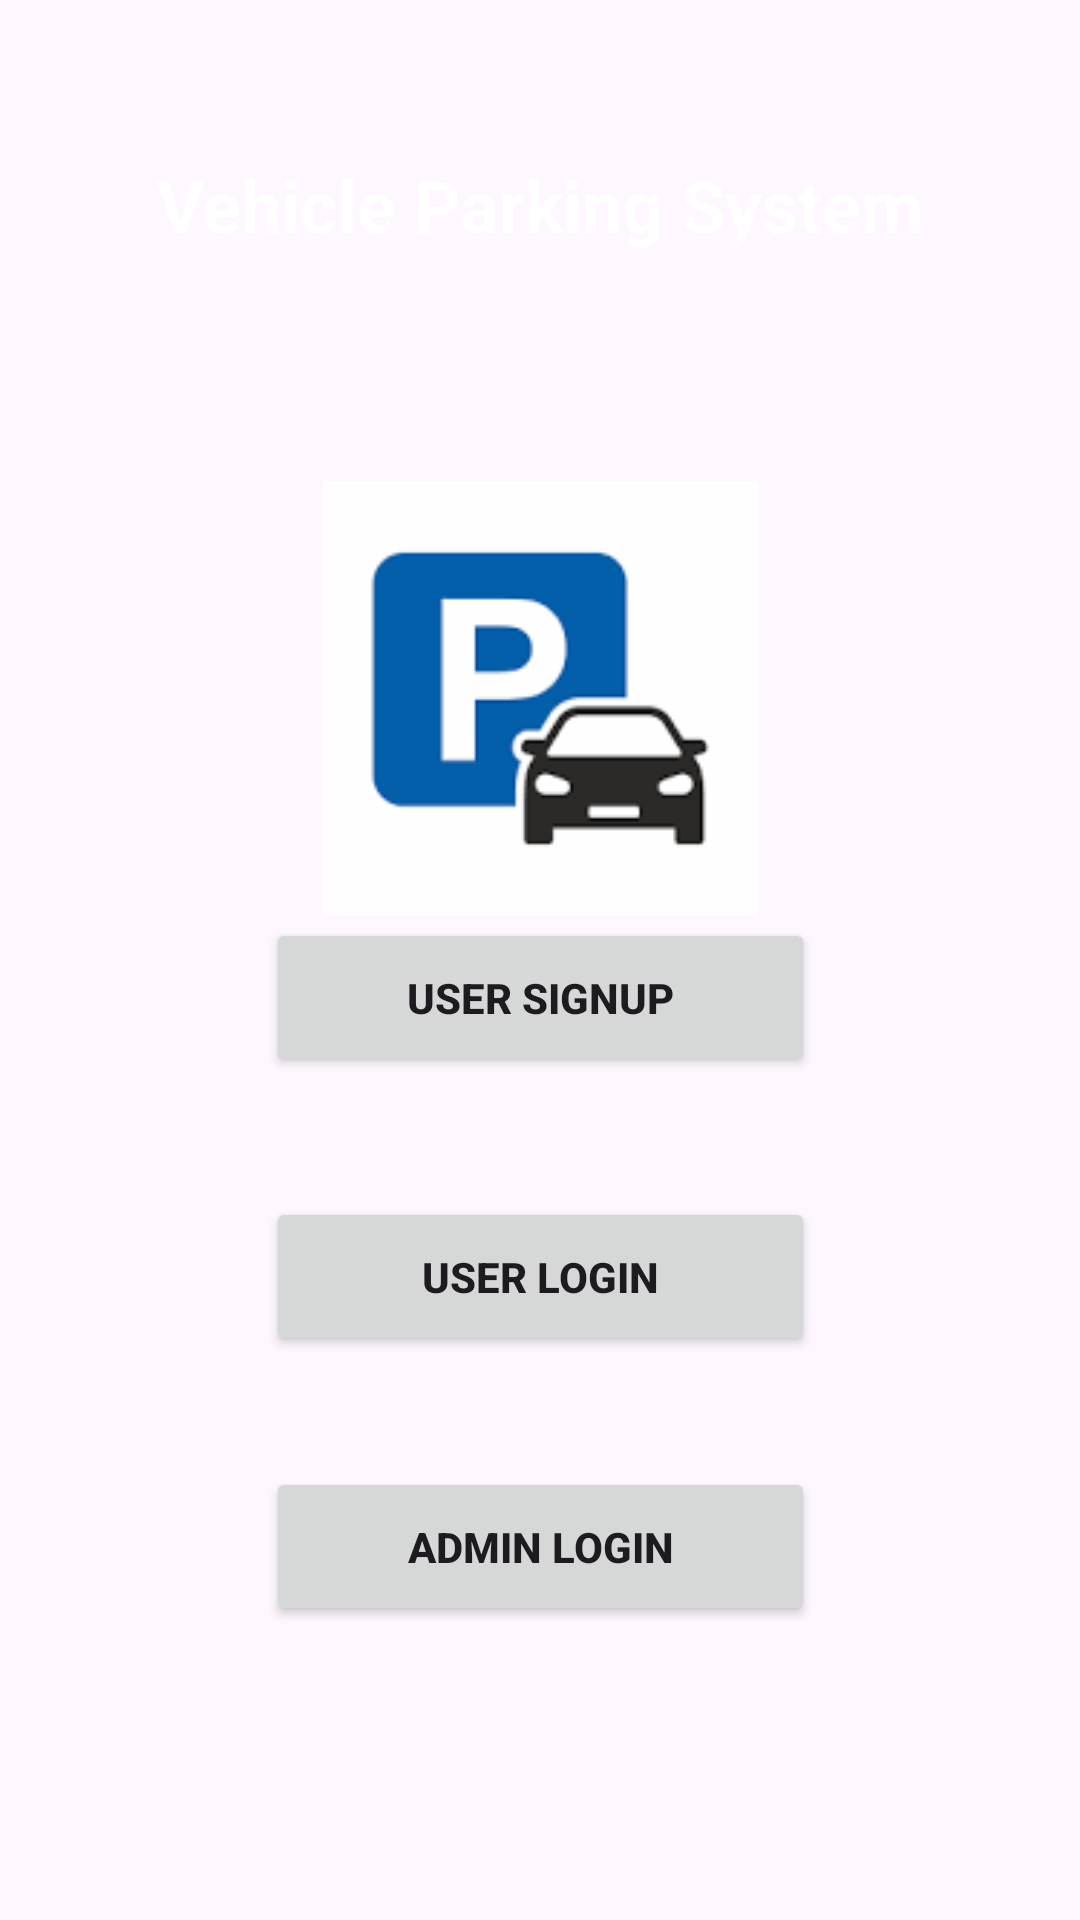

Icons on this 1080 x 1920 Android screen, each with its box as BBox(x1, y1, x2, y2):
vehicle: BBox(371, 552, 709, 845)
